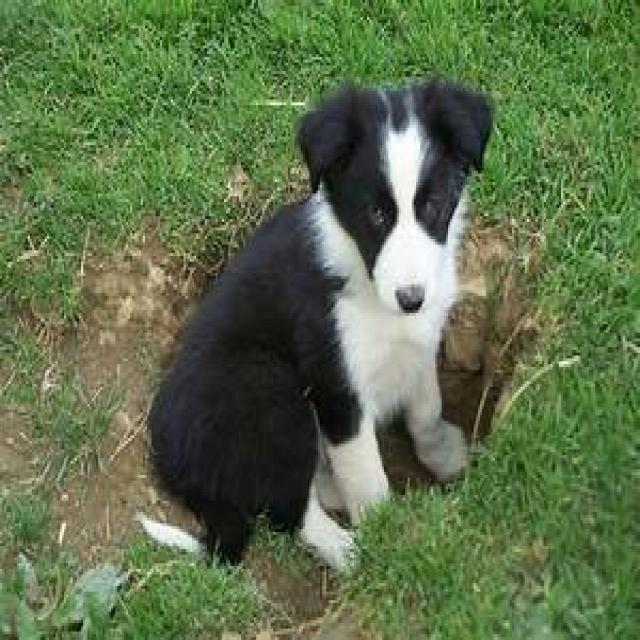KOPEK: (148, 79, 508, 569)
